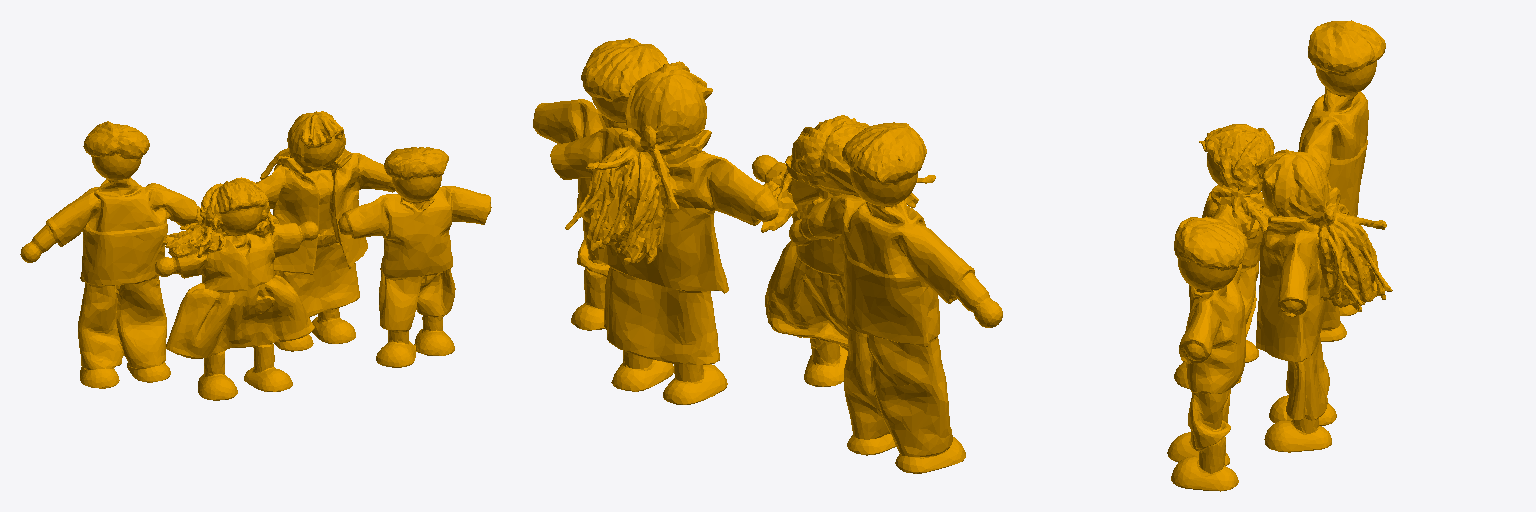
The robot description file, URDF, robot "DOLL_FAMILY":
<?xml version="1.0" ?>
<robot name="DOLL_FAMILY">
  <link name="link_0">
    <inertial>
      <origin xyz="0 0 0" rpy="0 0 0"/>
      <mass value="1.0"/>
      <inertia ixx="0.1" ixy="0.0" ixz="0.0" iyy="0.1" iyz="0.0" izz="0.1"/>
    </inertial>
    <visual name="visual">
      <origin xyz="0 0 0" rpy="0 0 0"/>
      <geometry>
        <mesh filename="meshes/model.obj"/>
      </geometry>
    </visual>
    <collision name="collision_0">
      <origin xyz="0 0 0" rpy="0 0 0"/>
      <geometry>
        <mesh filename="meshes/model.obj"/>
      </geometry>
    </collision>
  </link>
</robot>

--- Facts derived from the render (not from the file) ---
The picture shows the robot from 3 angles, left to right: view 1: azimuth 30°, elevation 25°; view 2: azimuth 150°, elevation 25°; view 3: azimuth 270°, elevation 25°; orthographic projection.
Model DOLL_FAMILY with 1 links and 0 joints (none), rooted at link_0, posed all joints at 0.
Visible links, largest first — view 1: link_0; view 2: link_0; view 3: link_0.
Boxes of the visible links, box(x1,y1,x2,y2) form: link_0: box(20, 111, 491, 400); link_0: box(533, 38, 1002, 473); link_0: box(1167, 20, 1392, 491).
Bounding box of the posed robot: 0.231 × 0.0906 × 0.1335 m (x, y, z).
Meshes: 1 distinct files referenced, 1 mesh visuals loaded (1 OBJ).